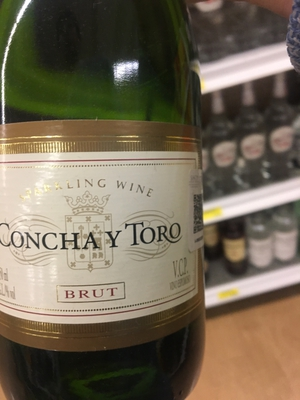brut: (2, 11, 218, 400)
